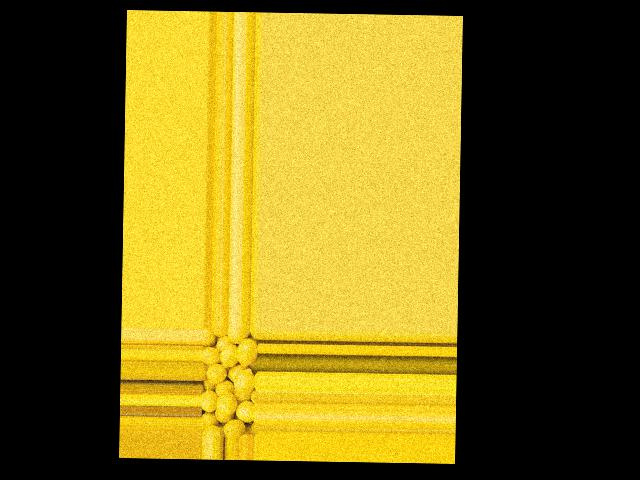lemon: (205, 364, 229, 383)
